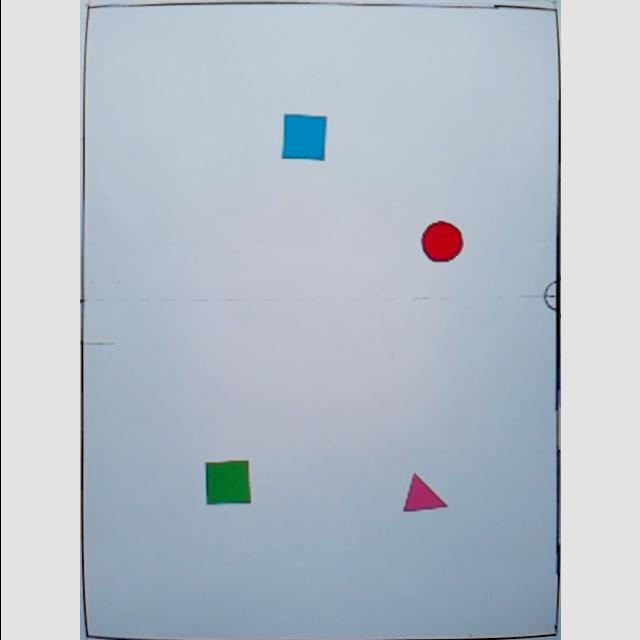blueSquare: (282, 110, 326, 162)
greenSquare: (204, 460, 252, 506)
pinkTriangle: (399, 474, 448, 512)
redCircle: (421, 218, 465, 264)
